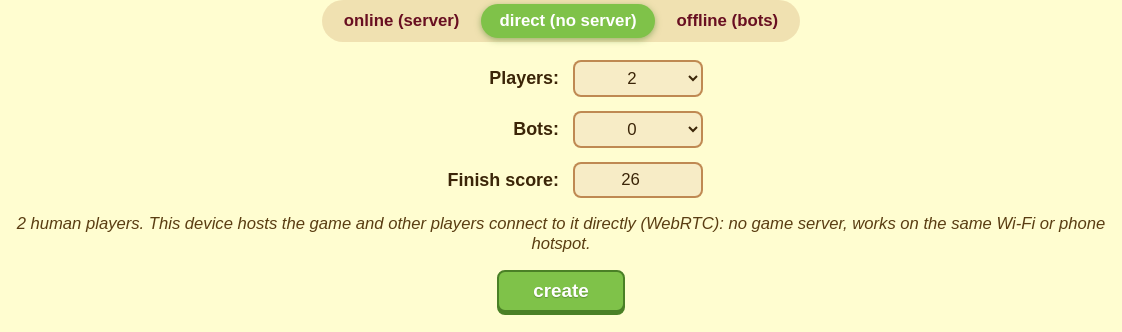
Test: SessionCreator defaults › offline: 2 players, one of them a bot
Click the button "offline (bots)".
click(727, 21)  # box [659,4,796,38]
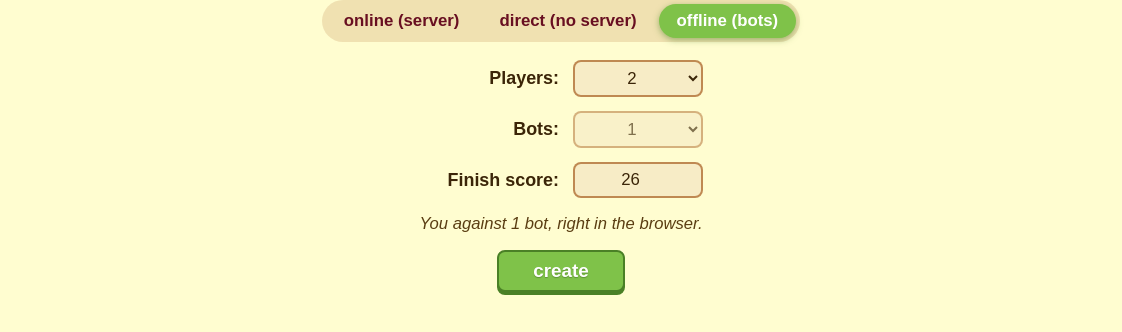
Expected: the dropdown labelled "Bots:" shows "1", [573,111,703,148]
Expected: the dropdown labelled "Bots:" is disabled, [573,111,703,148]
Expected: the text "You against 1 bot, right in the browser." is shown, [419,214,702,234]
